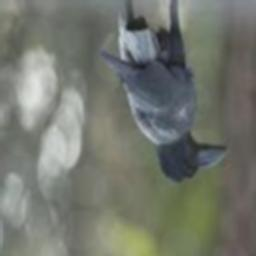Crow: (99, 0, 229, 183)
